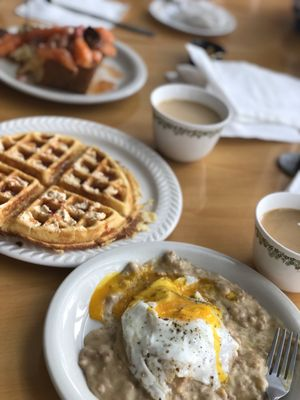sandwich: (38, 0, 155, 38)
sushi: (44, 243, 289, 400)
